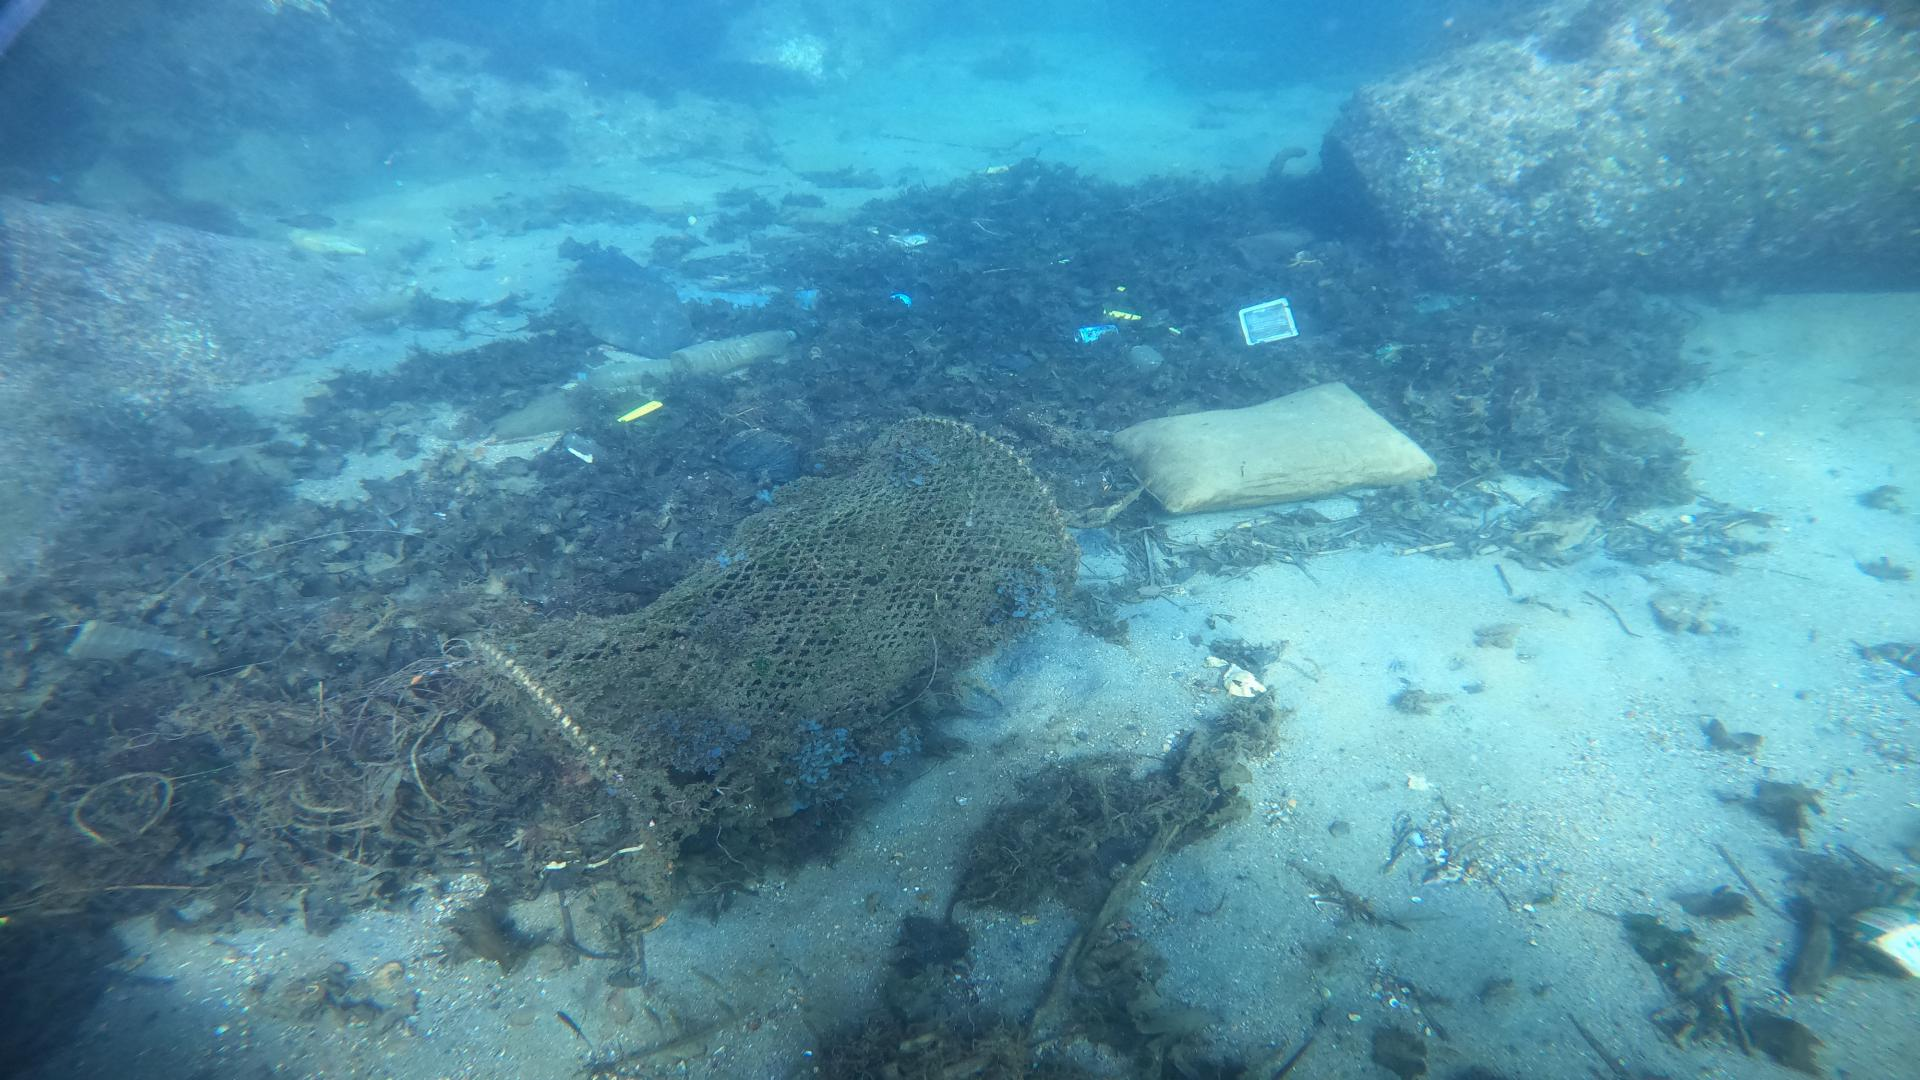spring fish trap: (465, 404, 1073, 858)
